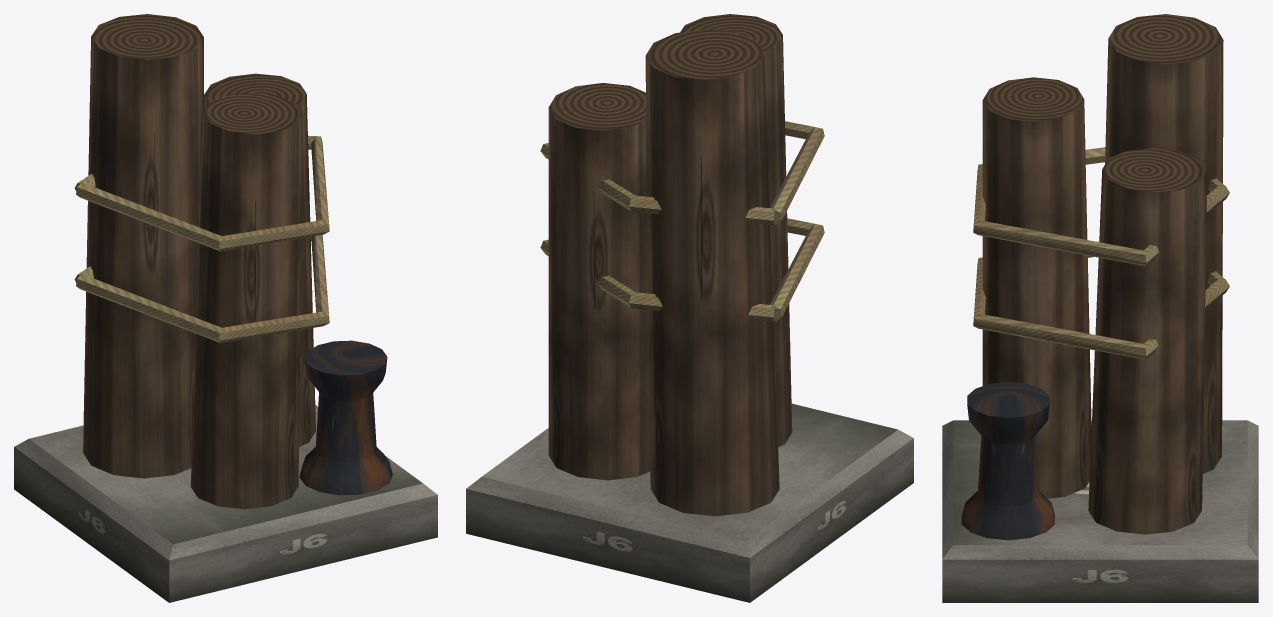
File: prop_pillar_bollard.glb
3 views of the same model, side by side, from view 1: azimuth 30°, elevation 25°; view 2: azimuth 150°, elevation 25°; view 3: azimuth 270°, elevation 25° (orthographic). The views are drawn at different scales.
Parts seen in each view (by area): view 1: prop_pillar_bollard_body; view 2: prop_pillar_bollard_body; view 3: prop_pillar_bollard_body.
Part boxes in pixels (x1,y1,x2,y2): prop_pillar_bollard_body: [14, 14, 437, 602]; prop_pillar_bollard_body: [466, 14, 913, 602]; prop_pillar_bollard_body: [942, 14, 1258, 602].
Bounding box in the file's own units: 0.86 × 1.42 × 0.86.
Materials: 1 (1 with a texture image).
